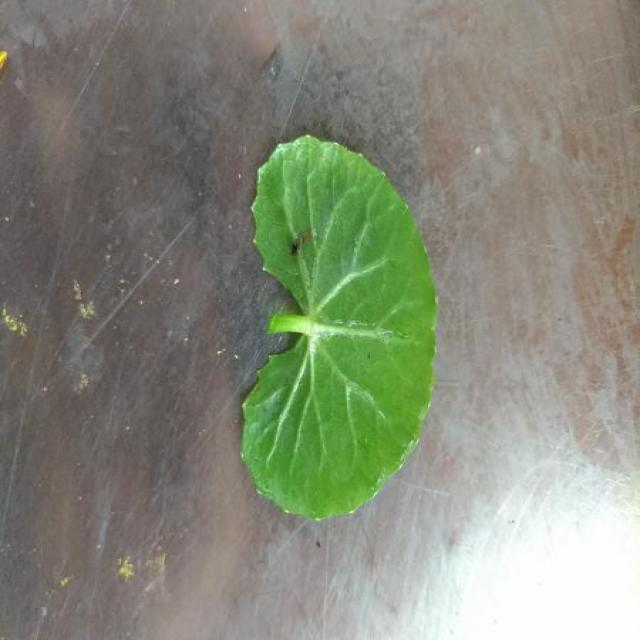bhrami: (242, 136, 437, 519)
